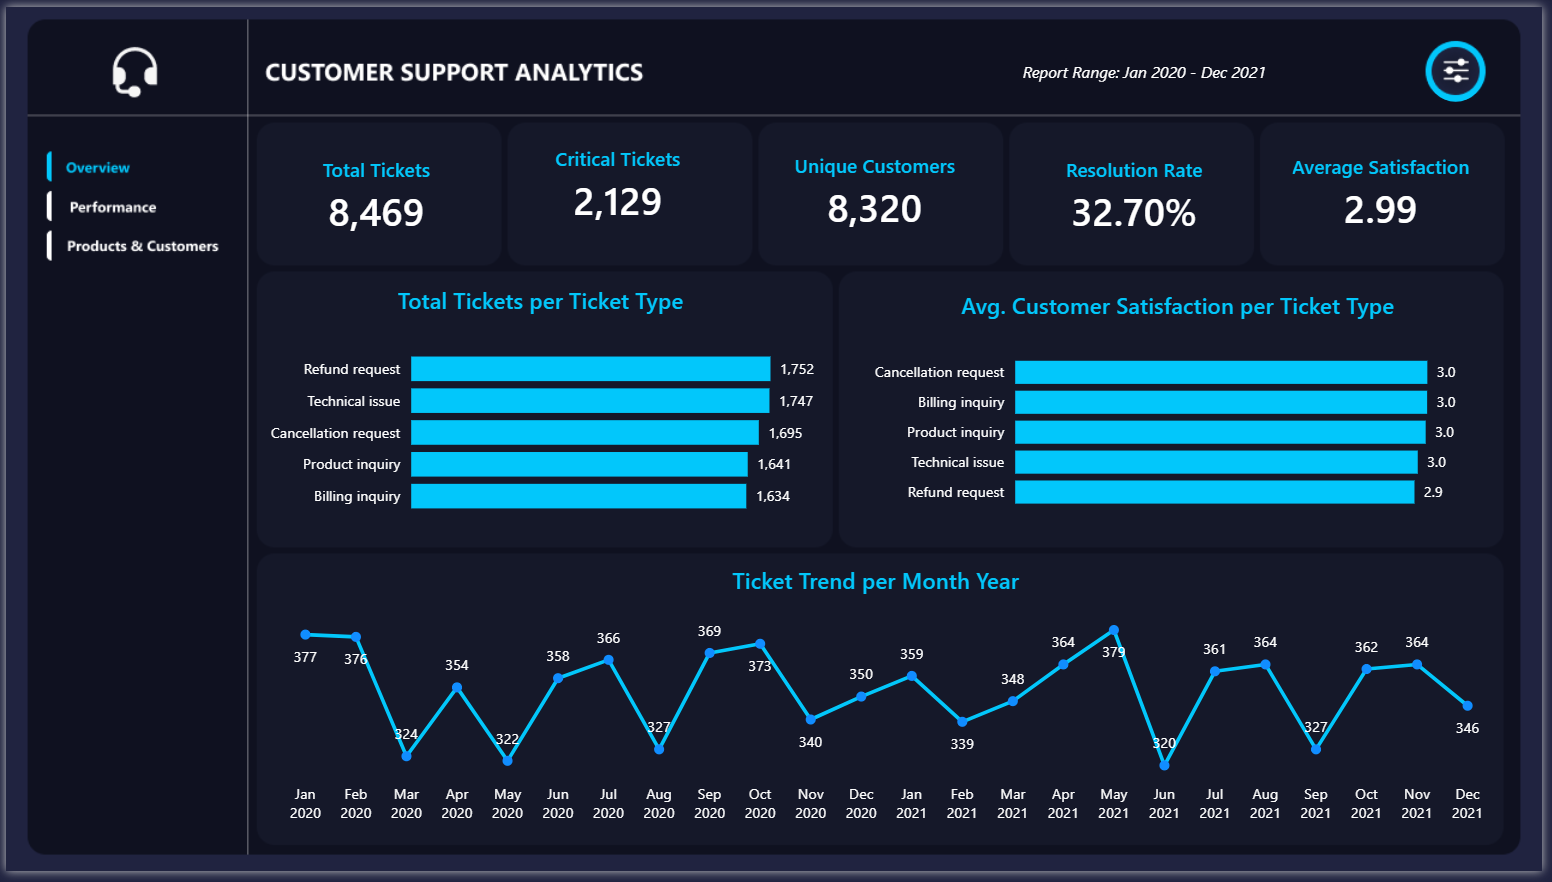

Layout of this report page (visuals, bound fields, positions):
{"tool":"powerbi","page":{"name":"Overview","canvas":[1280,720],"ordinal":0},"visuals":[{"type":"cardVisual","fields":{"Data":["_Measures.Report Period"]},"box":[817.9,23.6,315.6,60],"z":0},{"type":"cardVisual","fields":{"Data":["_Measures.Total Tickets"]},"box":[232,108.1,154.3,97.3],"z":1000},{"type":"cardVisual","fields":{"Data":["_Measures.Resolution Rate"]},"box":[849.4,103.2,182.9,108.1],"z":2000},{"type":"cardVisual","fields":{"Data":["_Measures.Unique Customers"]},"box":[625.3,94.4,198.6,120.9],"z":3000},{"type":"cardVisual","fields":{"Data":["_Measures.Critical Tickets"]},"box":[428.6,73.7,163.7,150.1],"z":4000},{"type":"cardVisual","fields":{"Data":["_Measures.Average Satisfaction"]},"box":[1039.1,100.3,213.3,110.1],"z":5000},{"type":"clusteredBarChart","title":"Total Tickets per Ticket Type","fields":{"Category":["fact_ticket_metrics.ticket_type"],"Y":["_Measures.Total Tickets"]},"box":[206.5,232,477.8,202.5],"z":6000},{"type":"clusteredBarChart","title":"Avg. Customer Satisfaction per Ticket Type","fields":{"Category":["fact_ticket_metrics.ticket_type"],"Y":["Avg(fact_ticket_metrics.customer_satisfaction_rating)"]},"box":[709.8,235.9,532.8,193.7],"z":7000},{"type":"lineChart","title":"Ticket Trend per Month Year","fields":{"Category":["Date.Year Month"],"Y":["Count(fact_ticket_metrics.ticket_id)"]},"box":[206.5,465,1036.2,222.2],"z":8000},{"type":"actionButton","box":[32.2,117.4,142.3,31.2],"z":10000},{"type":"actionButton","box":[32.2,151.7,142.3,31.2],"z":11000},{"type":"actionButton","box":[32.2,186,151.7,31.2],"z":12000},{"type":"actionButton","box":[1184.4,29.1,47.8,49.9],"z":13000}]}

Visuals, with their boxes in screenshot pixels (x1, y1, x2, y2), scaled from the page's 1280x720 canvas onto the 1552x882 screenshot:
cardVisual - _Measures.Report Period: 992 29 1374 102
cardVisual - _Measures.Total Tickets: 281 132 468 252
cardVisual - _Measures.Resolution Rate: 1030 126 1252 259
cardVisual - _Measures.Unique Customers: 758 116 999 264
cardVisual - _Measures.Critical Tickets: 520 90 718 274
cardVisual - _Measures.Average Satisfaction: 1260 123 1519 258
"Total Tickets per Ticket Type" clusteredBarChart: 250 284 830 532
"Avg. Customer Satisfaction per Ticket Type" clusteredBarChart: 861 289 1507 526
"Ticket Trend per Month Year" lineChart: 250 570 1507 842
actionButton: 39 144 212 182
actionButton: 39 186 212 224
actionButton: 39 228 223 266
actionButton: 1436 36 1494 97
